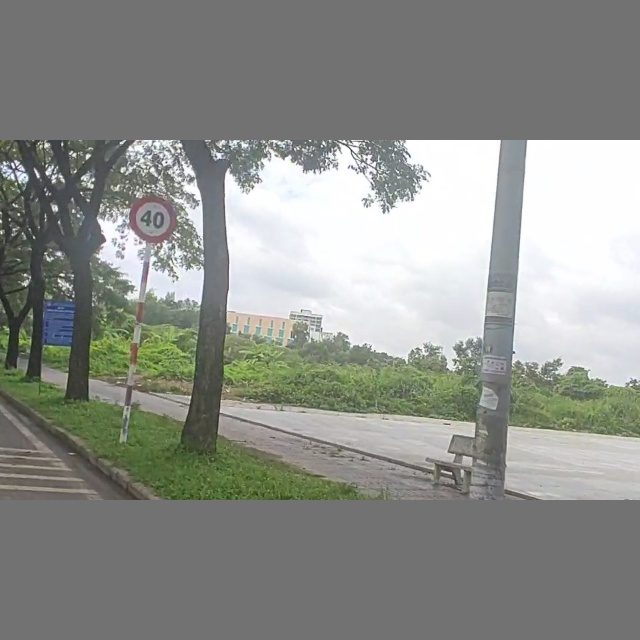P.127*40: (127, 191, 185, 243)
